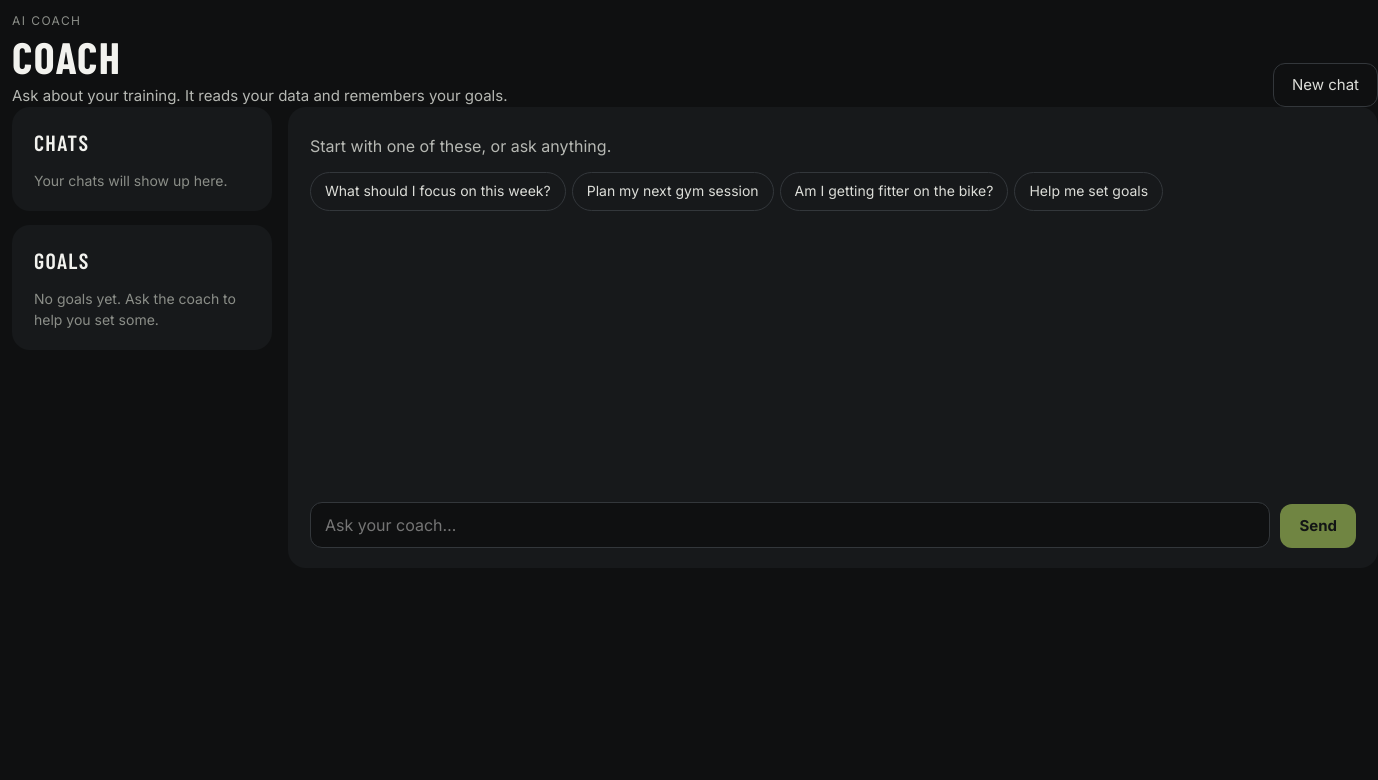
Test: Coach page › stops reading the answer when you leave the page
Click the button "Help me set goals": click(1089, 191) [1014, 172, 1163, 211]
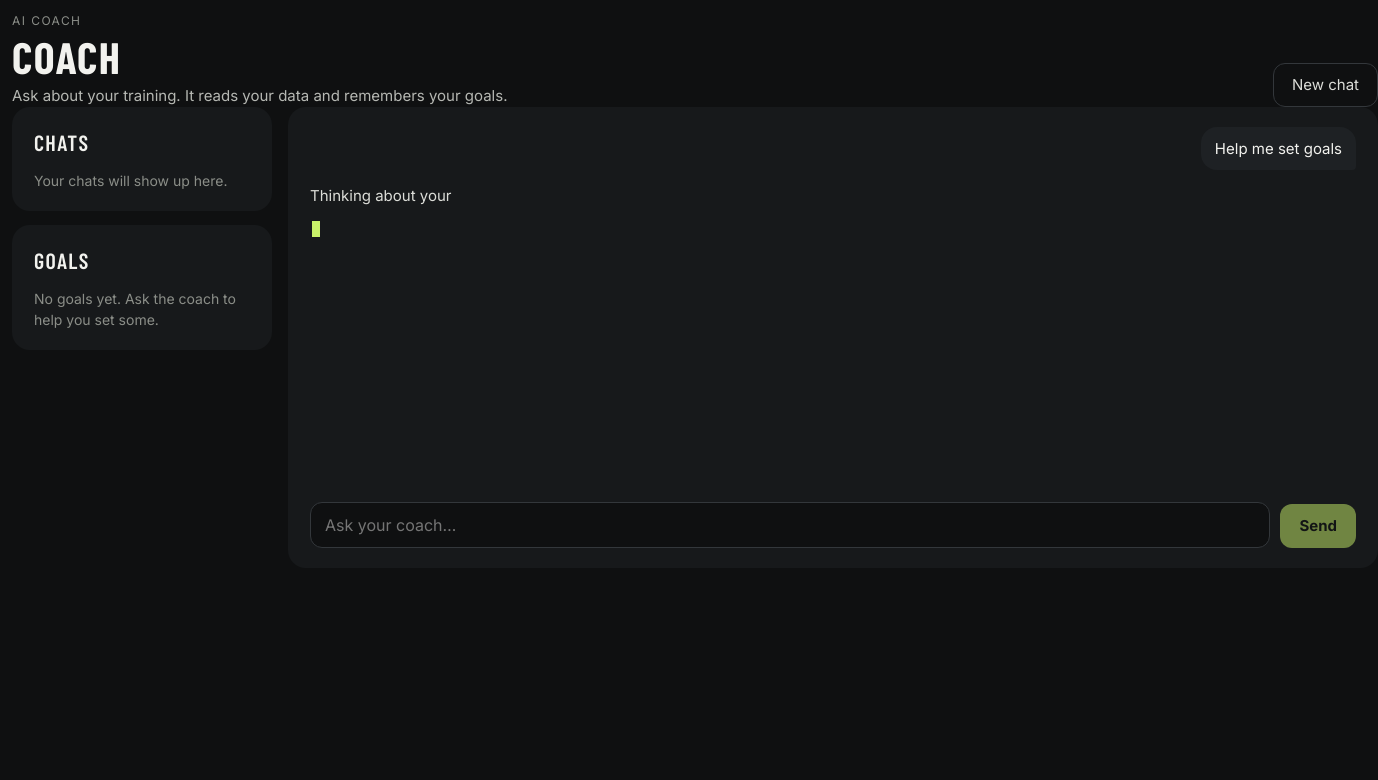
Expected: the text "Thinking about your" is shown, [310, 184, 452, 208]
